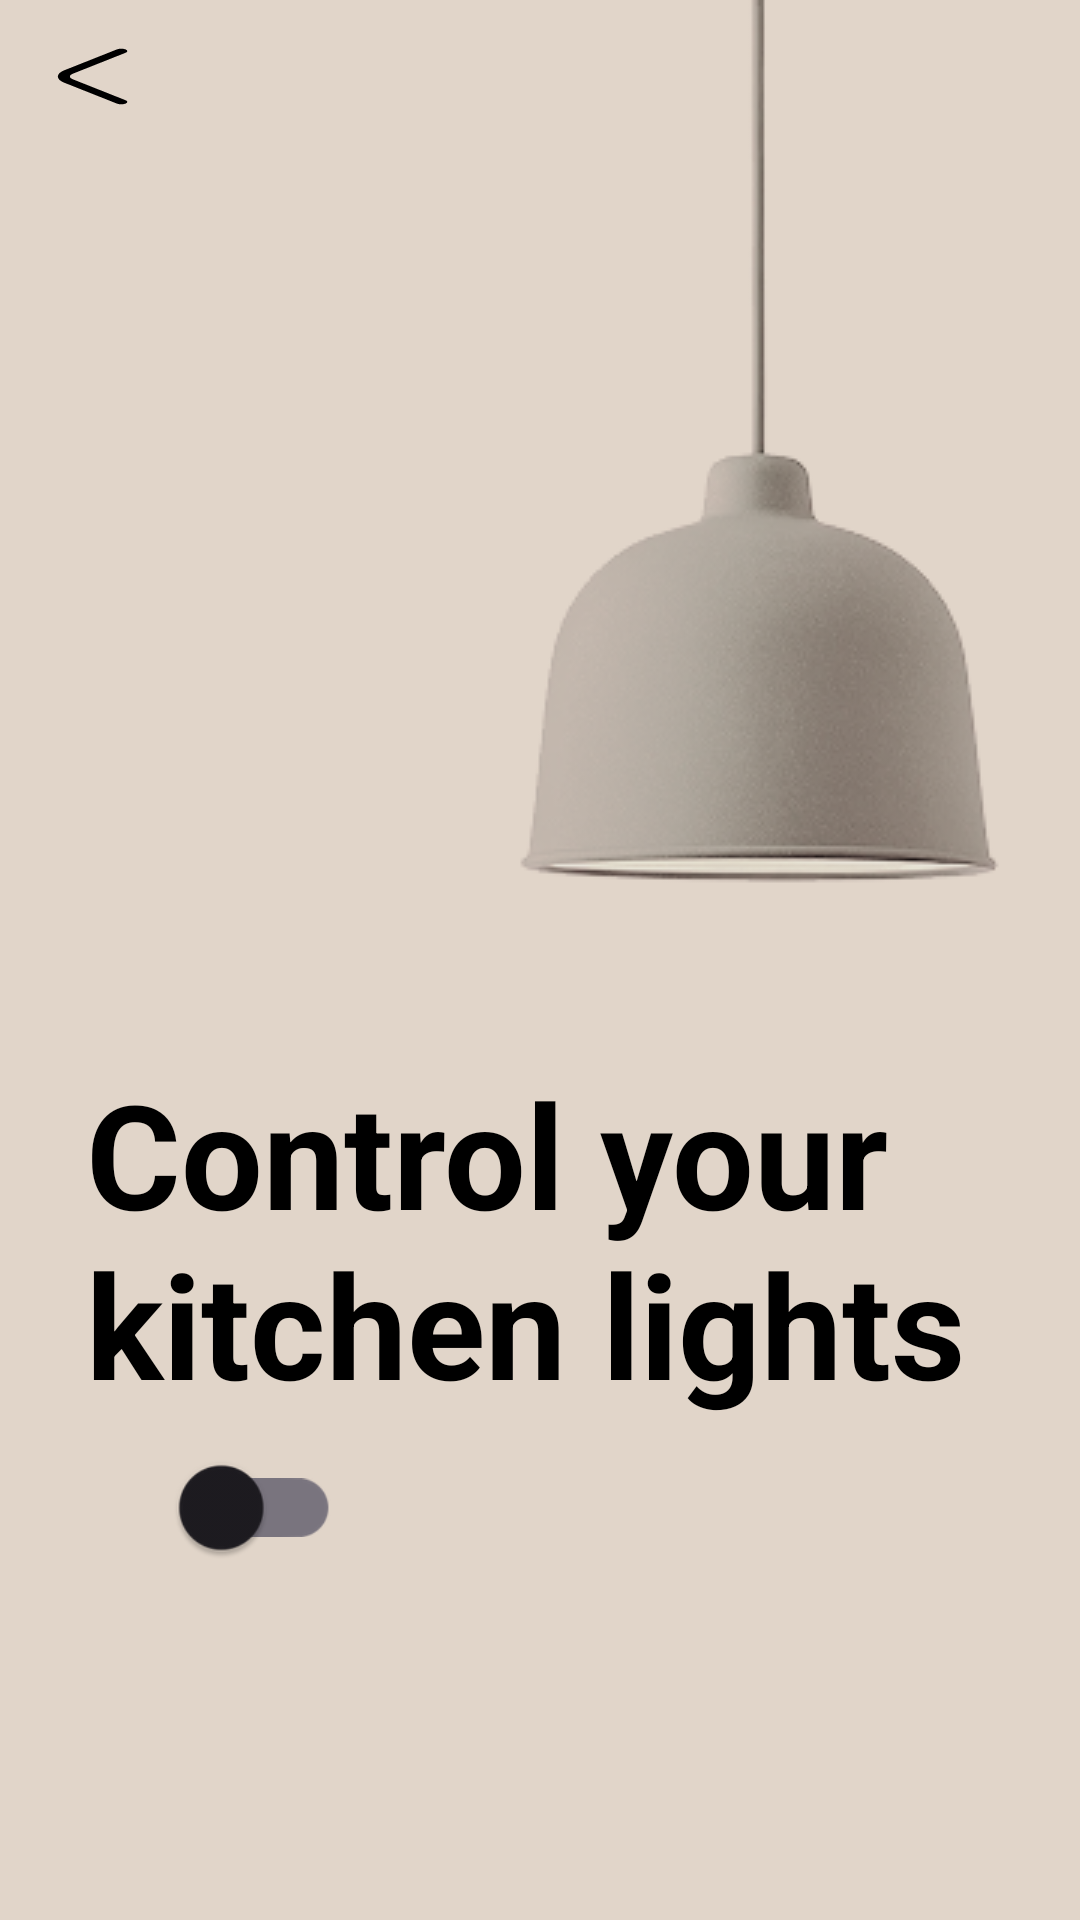

Named icons in this screenshot (1080 × 1920) and their bounding boxes, (x1, y1, x2, y2):
arrow left: (57, 48, 128, 105)
